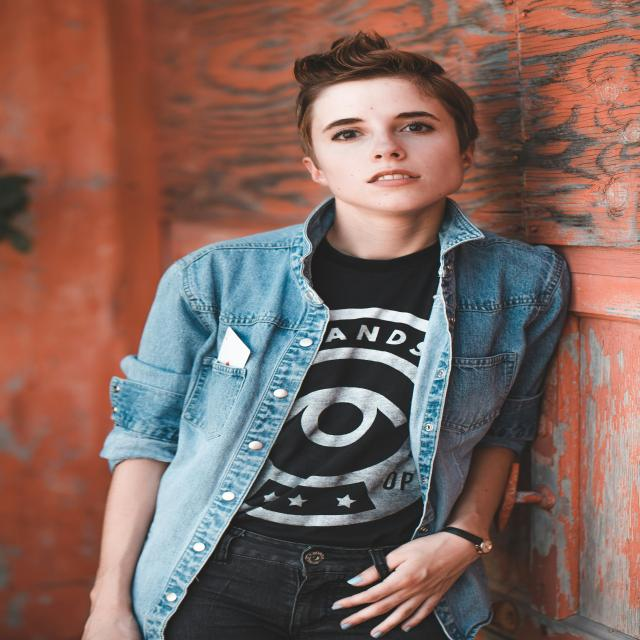human: (92, 42, 580, 640)
